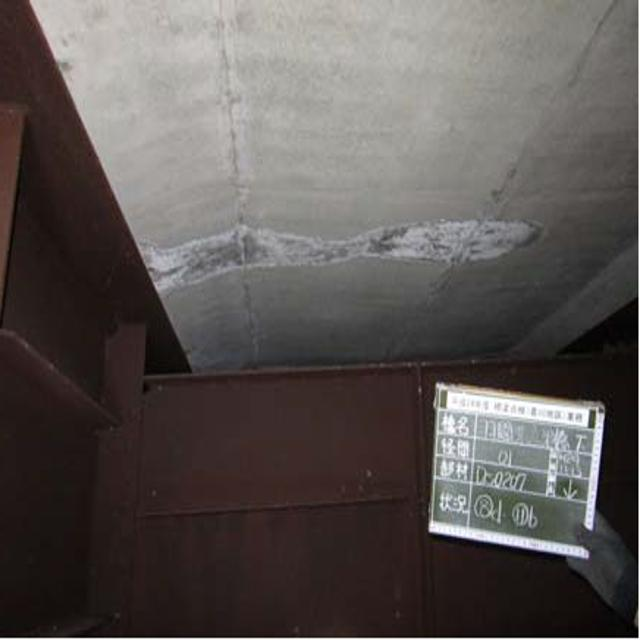freelime: (159, 207, 550, 284)
